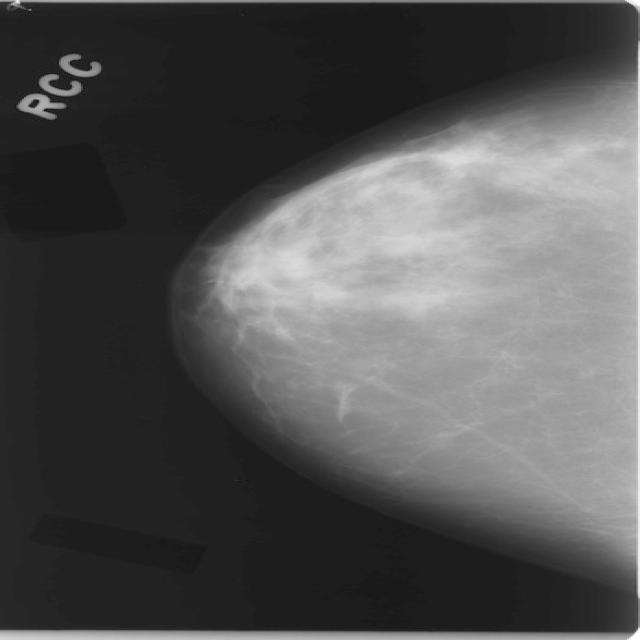tumour: (419, 135, 502, 173)
